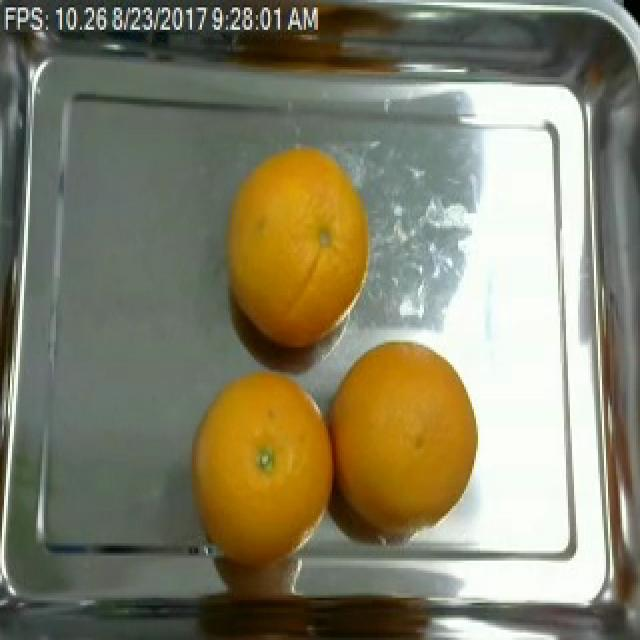Fruit: (208, 132, 386, 332), (314, 328, 488, 524)
